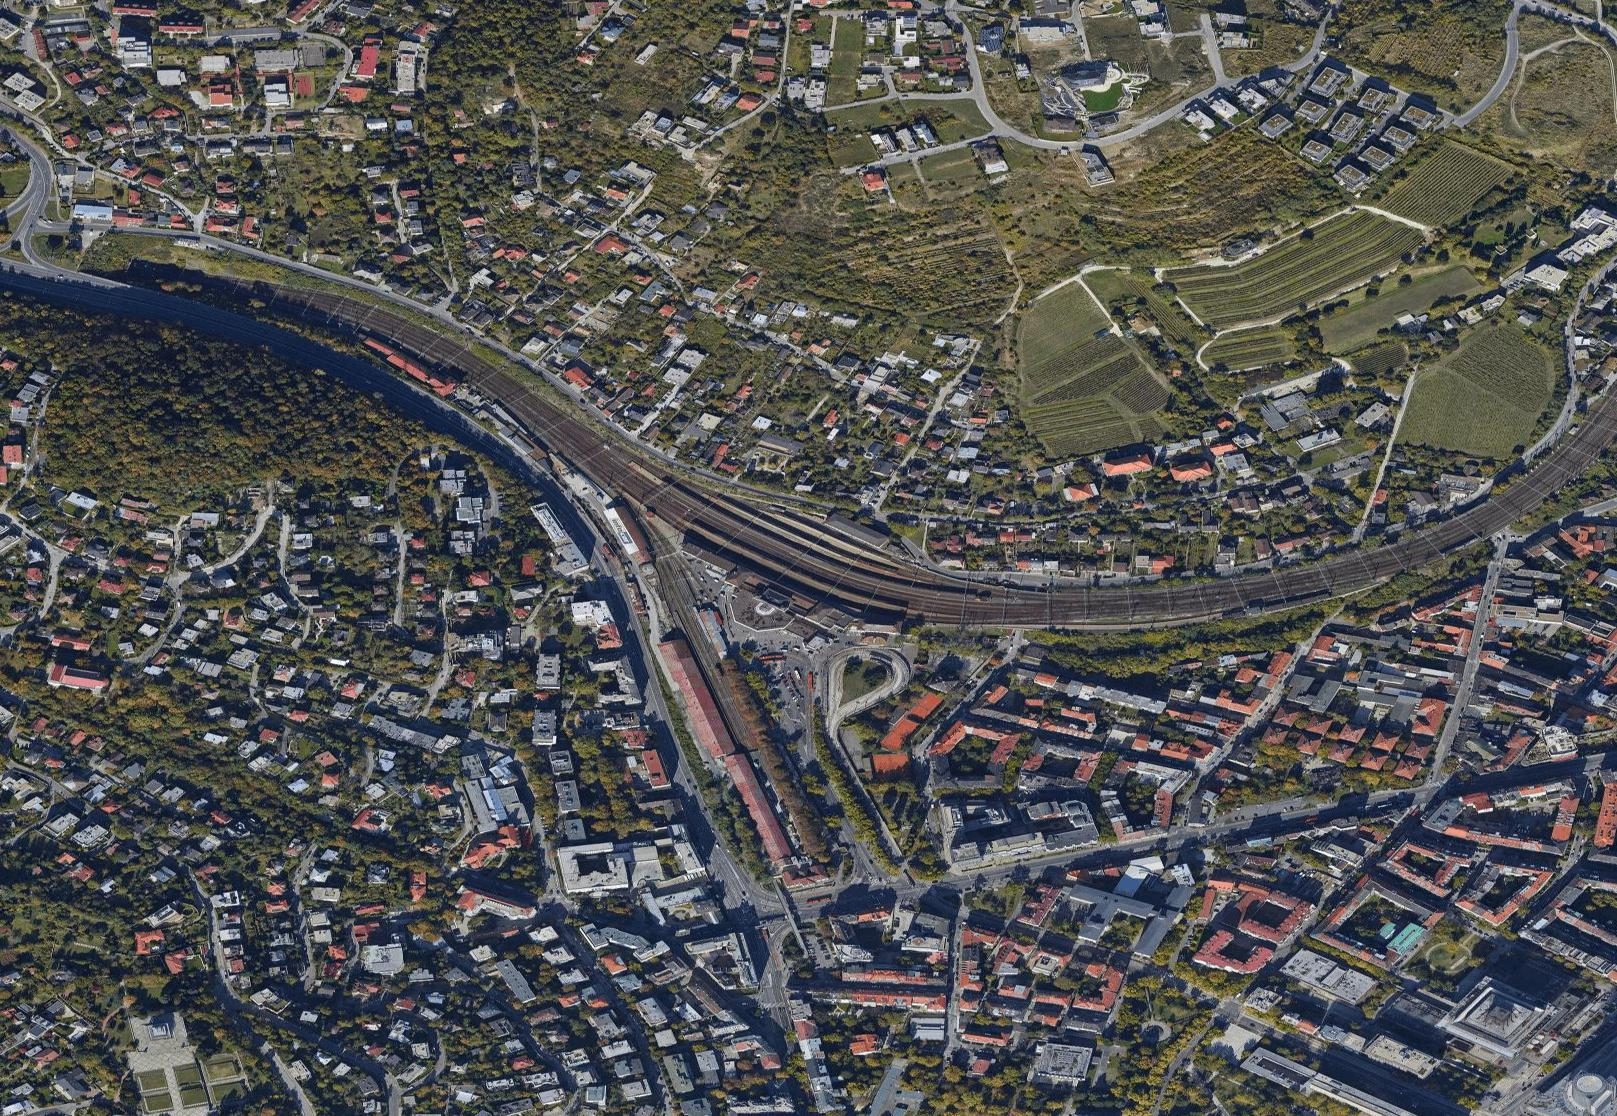train_station: (639, 460, 938, 669)
